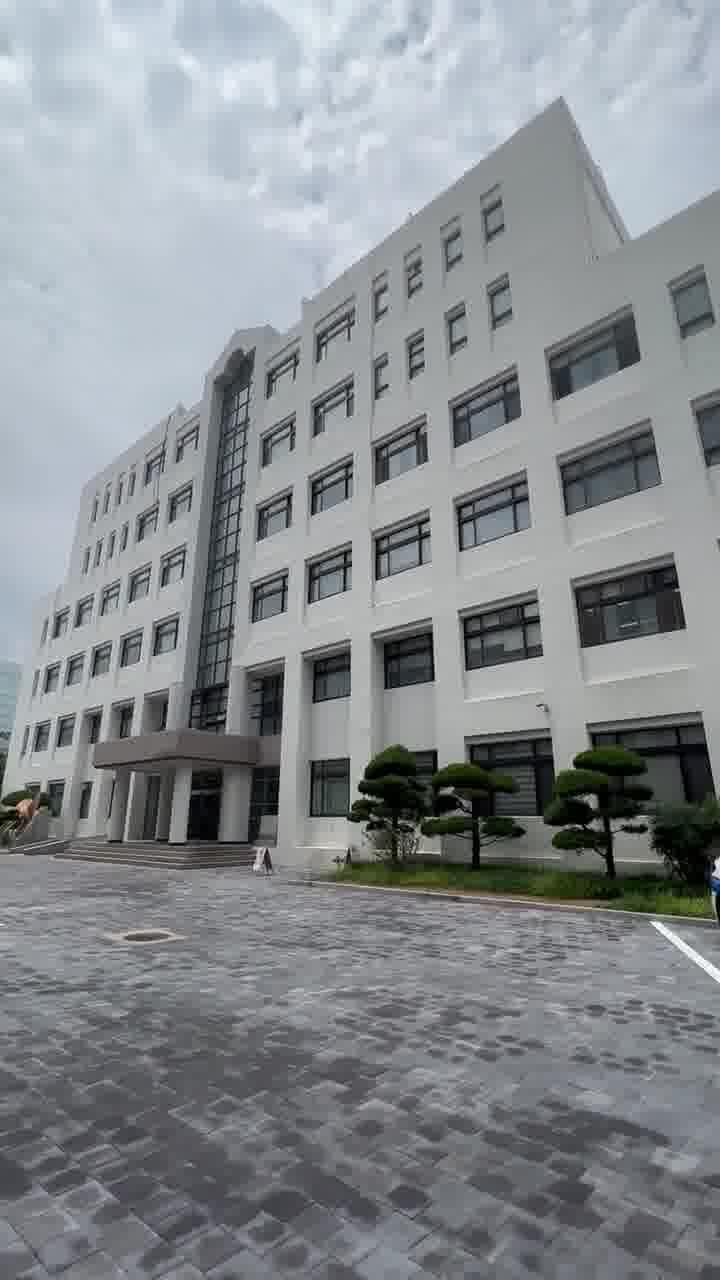building: (44, 230, 720, 788)
